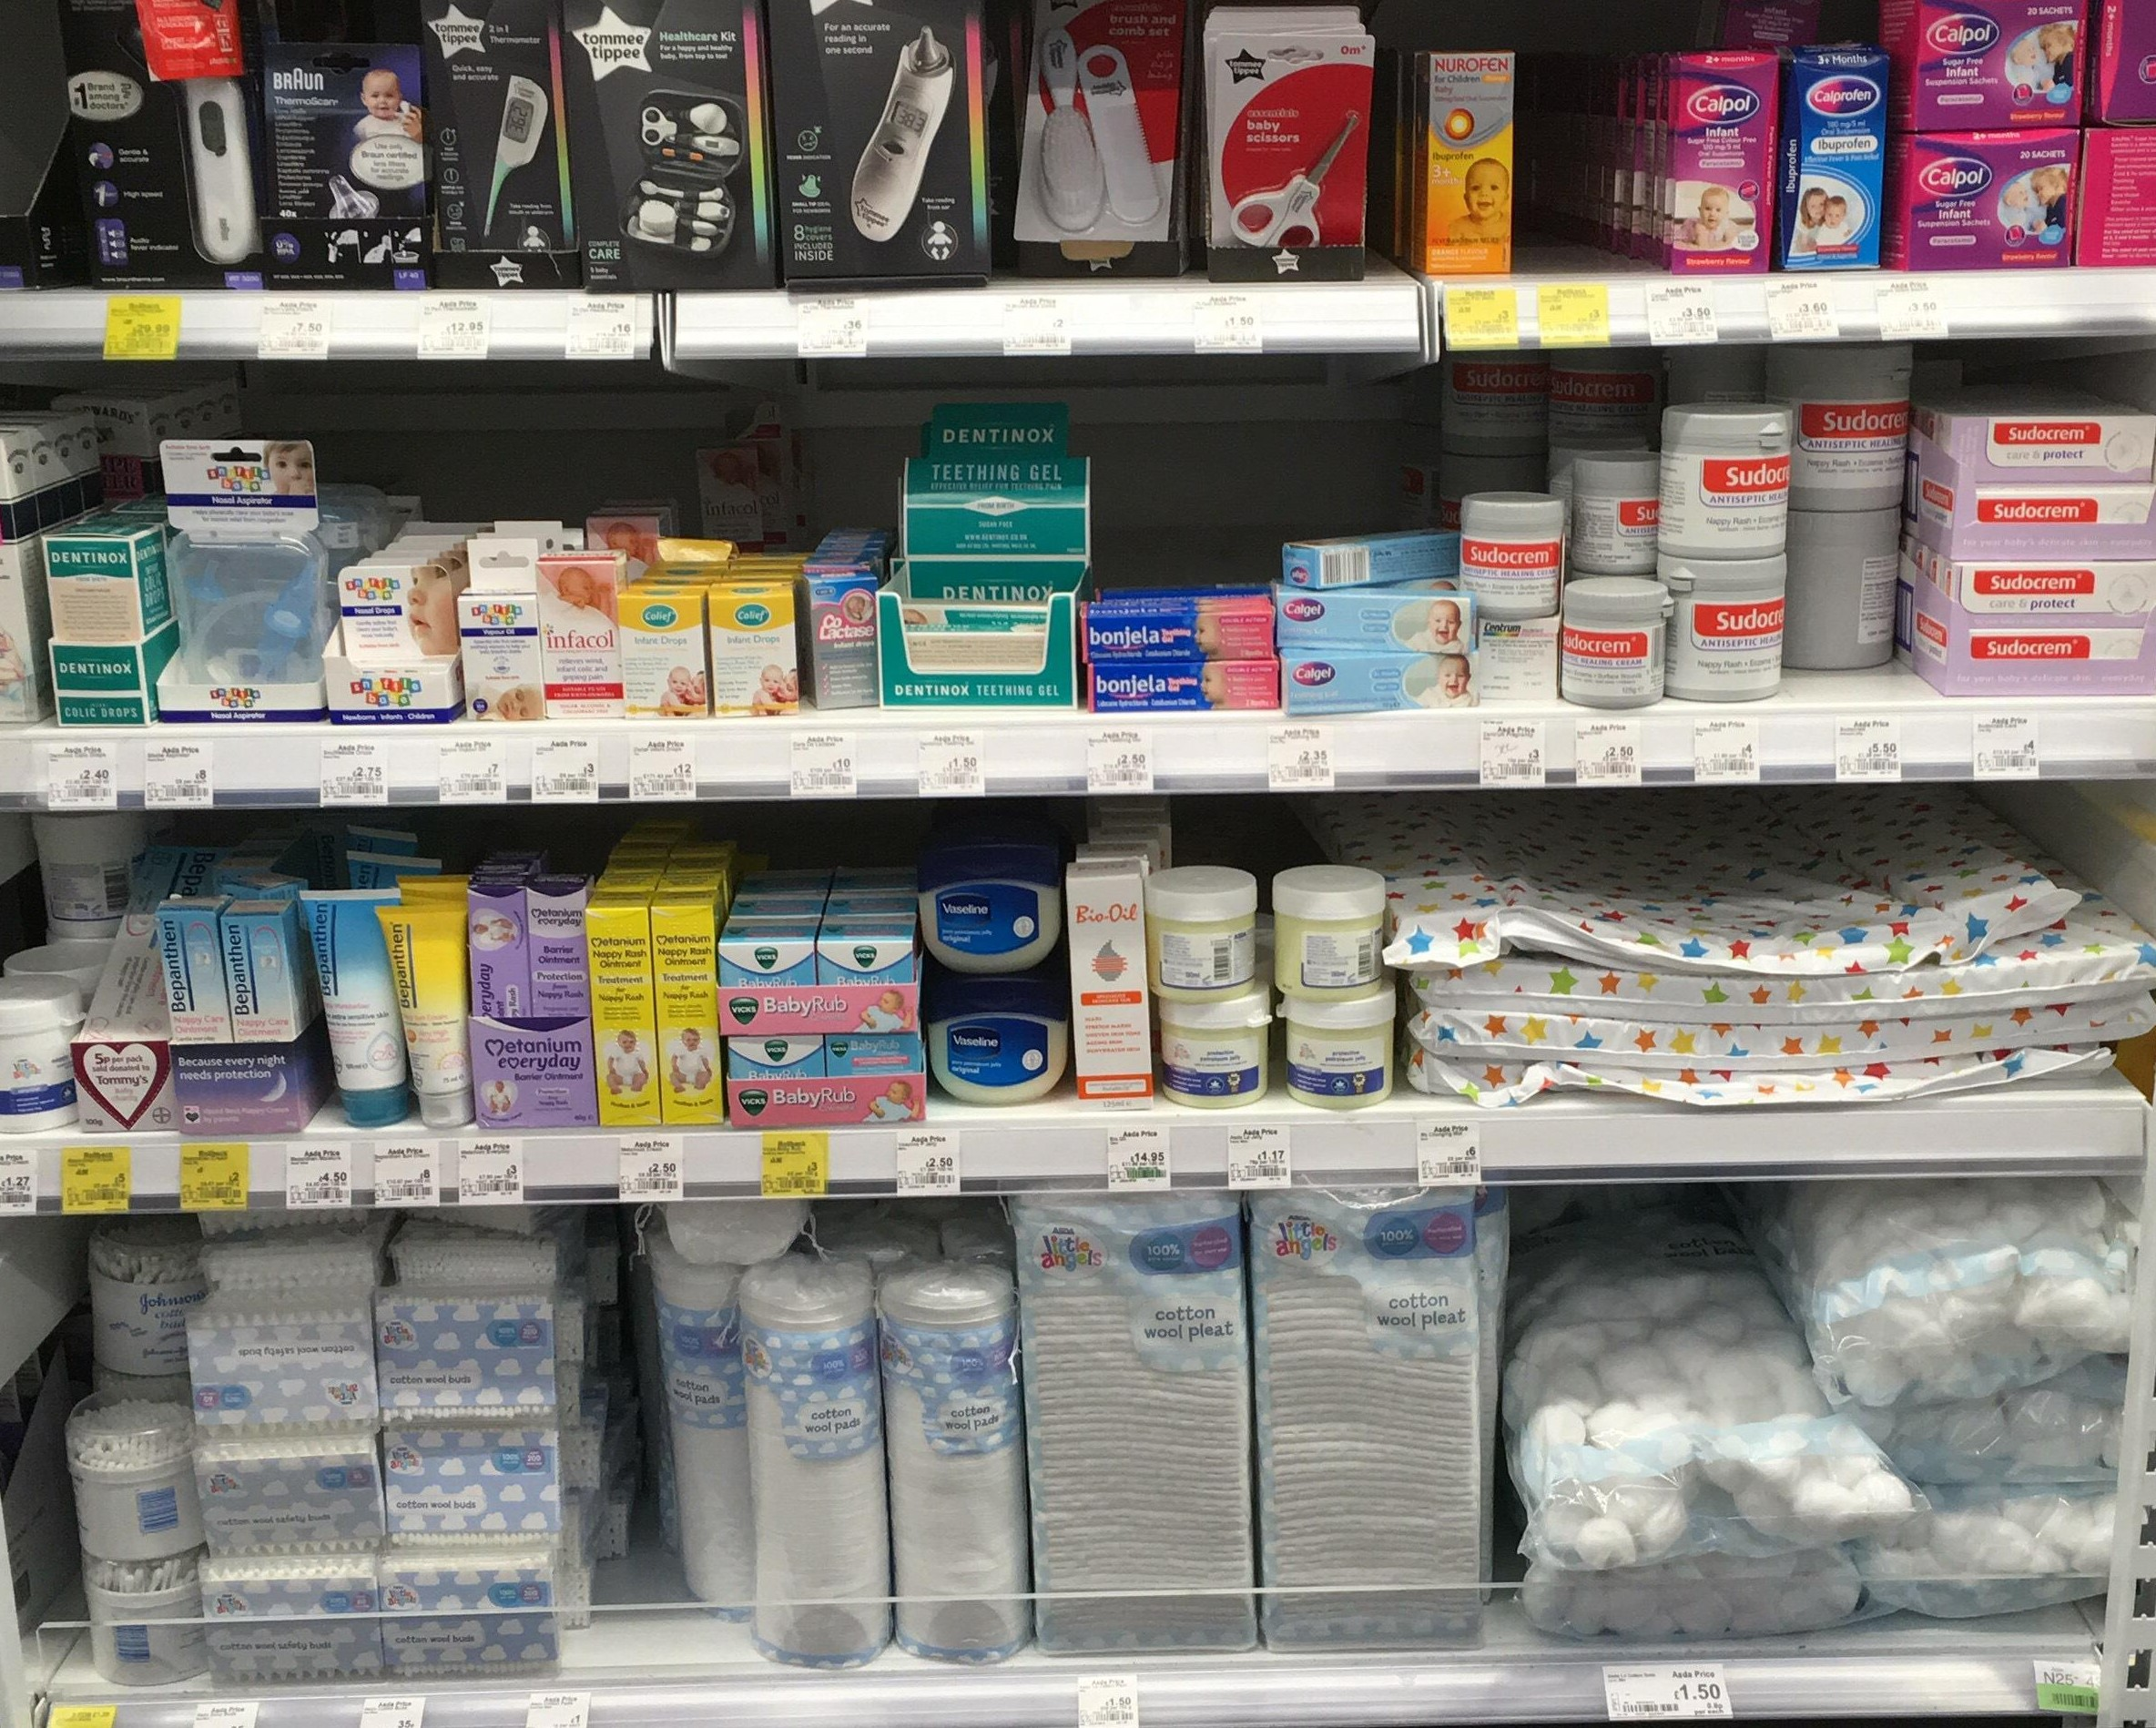empty: (1516, 18, 1618, 284)
misalignment: (375, 1222, 643, 1636), (1276, 533, 1474, 658)
